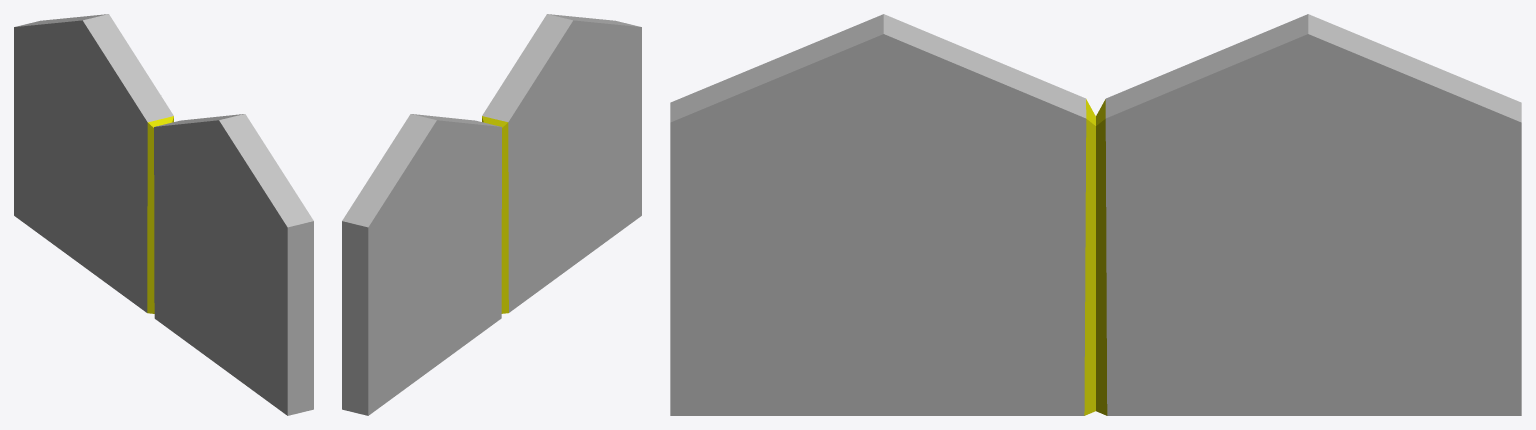
File: gate1.fbx
3 views of the same model, side by side, from view 1: azimuth 30°, elevation 25°; view 2: azimuth 150°, elevation 25°; view 3: azimuth 270°, elevation 25° (orthographic). The views are drawn at different scales.
Parts seen in each view (by area): view 1: polySurface1, polySurface2; view 2: polySurface2, polySurface1; view 3: polySurface2, polySurface1.
Part boxes in pixels (<box>): polySurface1: <box>154,114,313,415</box>; polySurface2: <box>14,14,173,313</box>; polySurface2: <box>342,114,501,415</box>; polySurface1: <box>482,14,641,313</box>; polySurface2: <box>1096,14,1521,415</box>; polySurface1: <box>670,14,1095,415</box>.
Bounding box in the file's own units: 0.2643 × 2.35 × 4.76.
